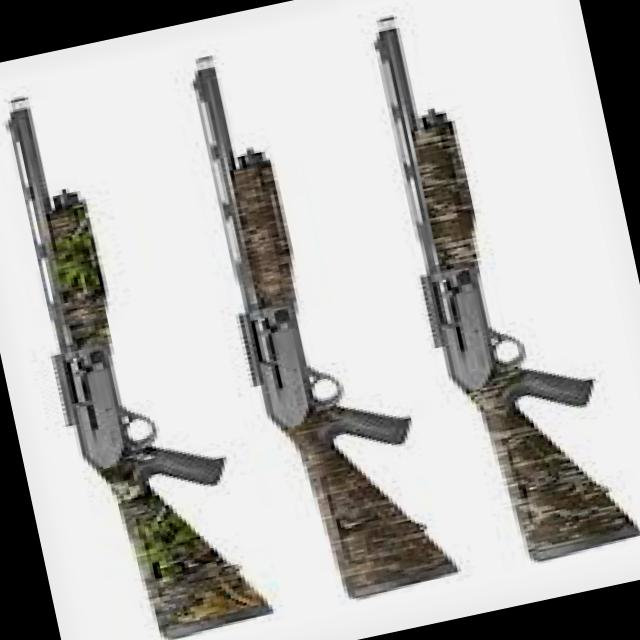long weapon: (171, 5, 500, 612), (0, 47, 284, 639), (354, 0, 639, 583)
